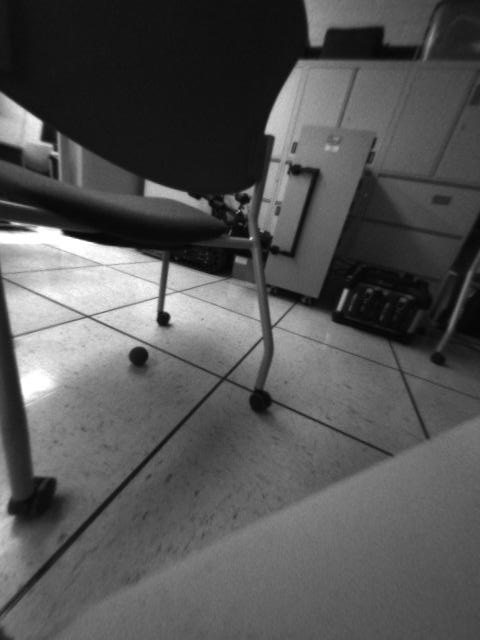dogtoy: (116, 337, 159, 374)
